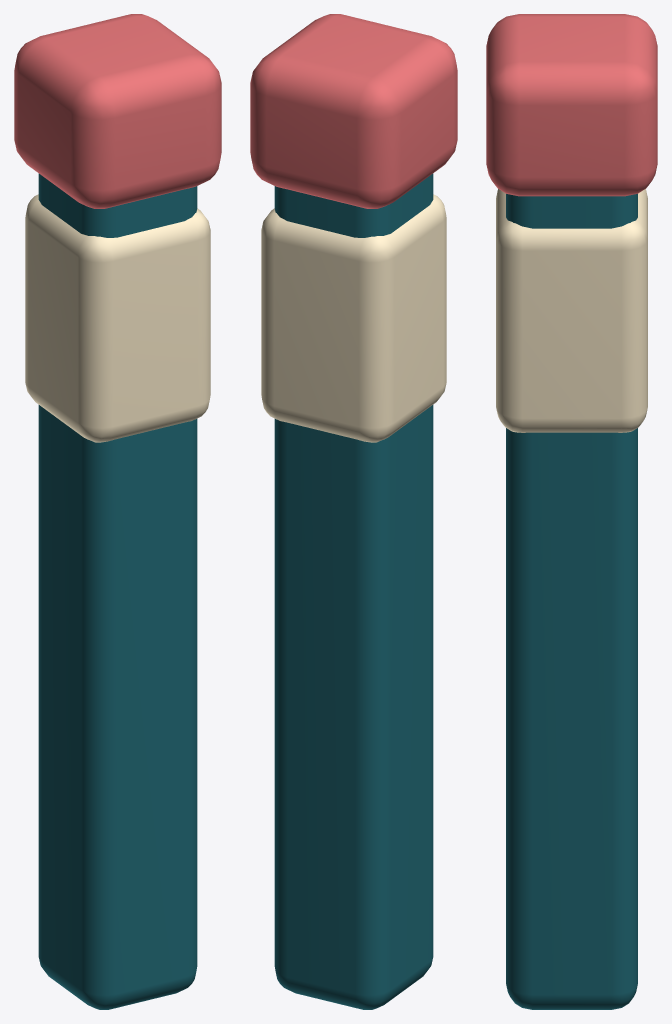
Rendered from race_edge_marker_mobile.glb.
The picture shows the model from 3 angles, left to right: view 1: azimuth 30°, elevation 25°; view 2: azimuth 150°, elevation 25°; view 3: azimuth 270°, elevation 25°; orthographic projection.
Parts seen in each view (by area): view 1: race_edge_marker; view 2: race_edge_marker; view 3: race_edge_marker.
Boxes of the visible parts, x1,y1,x2,y2 form: race_edge_marker: (14,14,221,1009); race_edge_marker: (250,14,457,1009); race_edge_marker: (486,14,657,1009).
Size of the model in its own units: 0.26 by 1.59 by 0.26.
